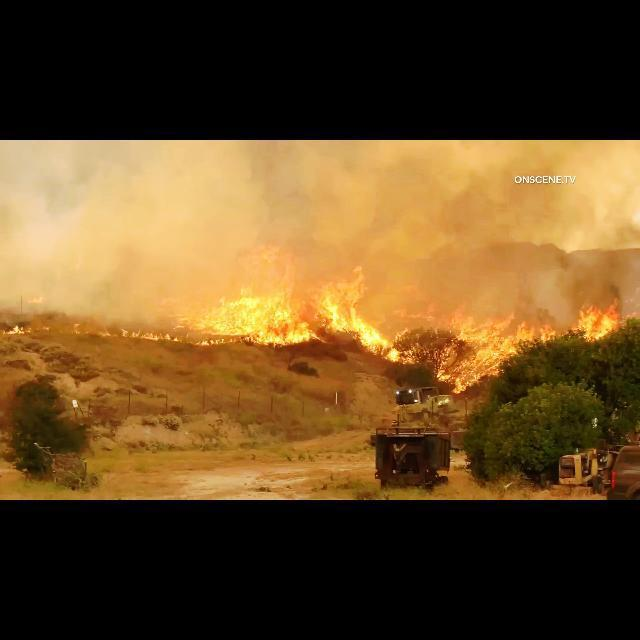Fire: (182, 249, 374, 353), (449, 301, 541, 389), (571, 307, 615, 341)
Smoke: (93, 142, 475, 248)
